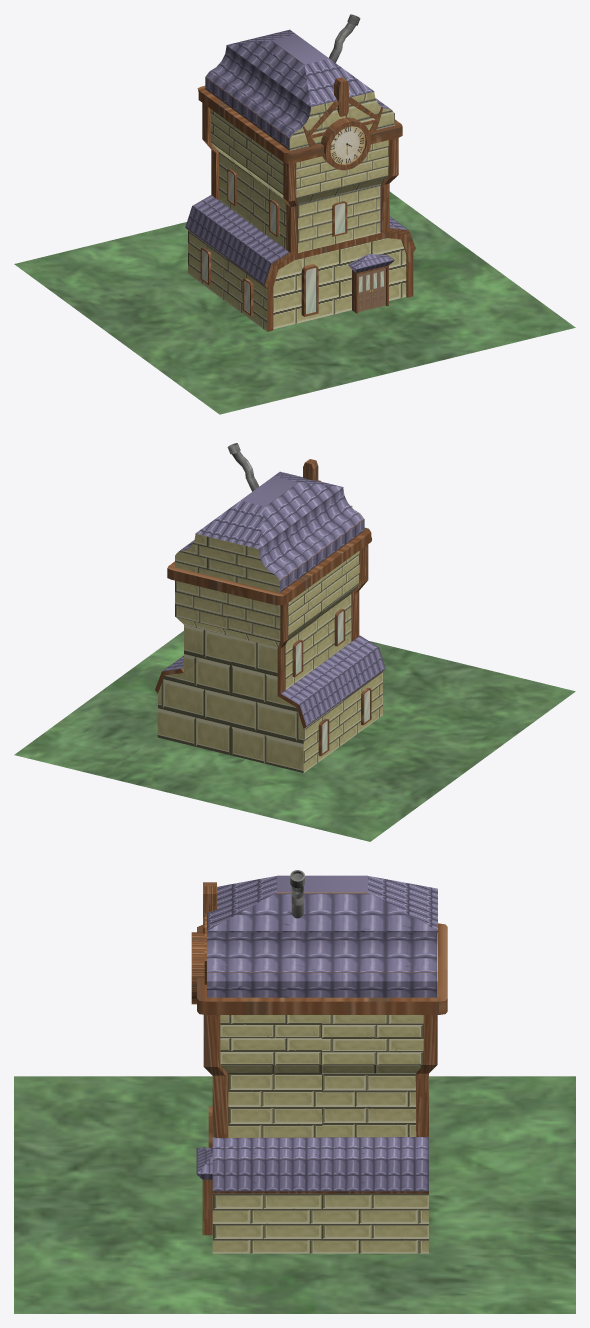
Rendered from HouseTexture.FBX.
3 views of the same model, one above another, from view 1: azimuth 30°, elevation 25°; view 2: azimuth 150°, elevation 25°; view 3: azimuth 270°, elevation 25° (orthographic). The views are drawn at different scales.
Visible parts, largest first — view 1: Box001; view 2: Box001; view 3: Box001.
Part boxes in pixels (x1=…): Box001: x1=14, y1=14, x2=575, y2=414; Box001: x1=14, y1=443, x2=575, y2=841; Box001: x1=14, y1=870, x2=575, y2=1313.
Bounding box in the file's own units: 78.74 × 78.74 × 56.56.
1 material, 1 textured.
